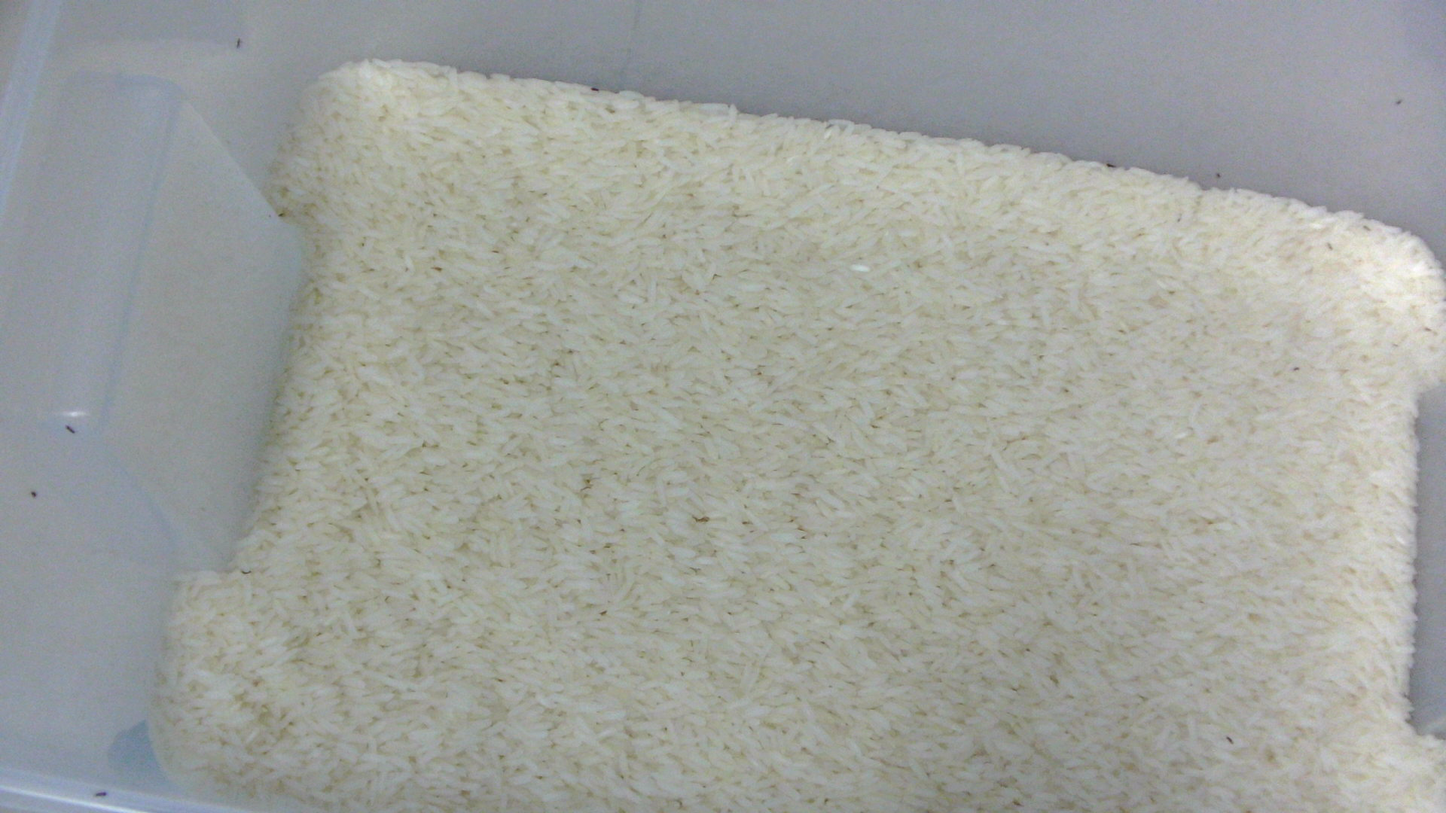Rice weevil: (23, 488, 47, 506)
Rice_Weevil: (84, 778, 120, 807), (225, 30, 256, 57), (1212, 729, 1245, 752), (1094, 152, 1125, 173), (61, 420, 86, 444), (1207, 166, 1228, 187), (1392, 88, 1407, 112), (1322, 238, 1339, 255), (589, 82, 603, 98)
